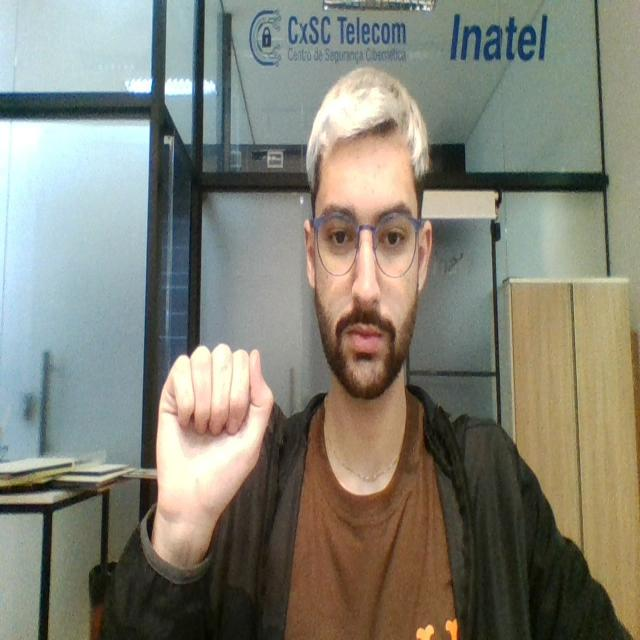A: (152, 338, 277, 528)
